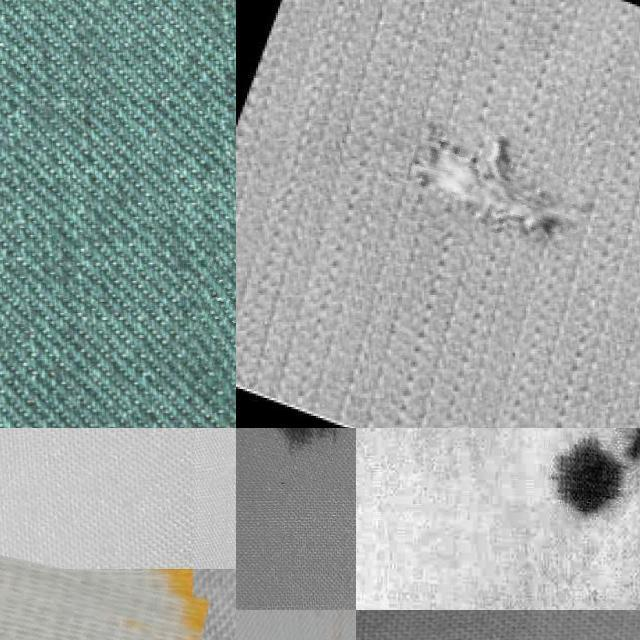Thread_other: (0, 555, 201, 640), (513, 428, 640, 544), (237, 428, 351, 486)
other: (405, 126, 588, 241)
stains: (188, 260, 236, 414)
